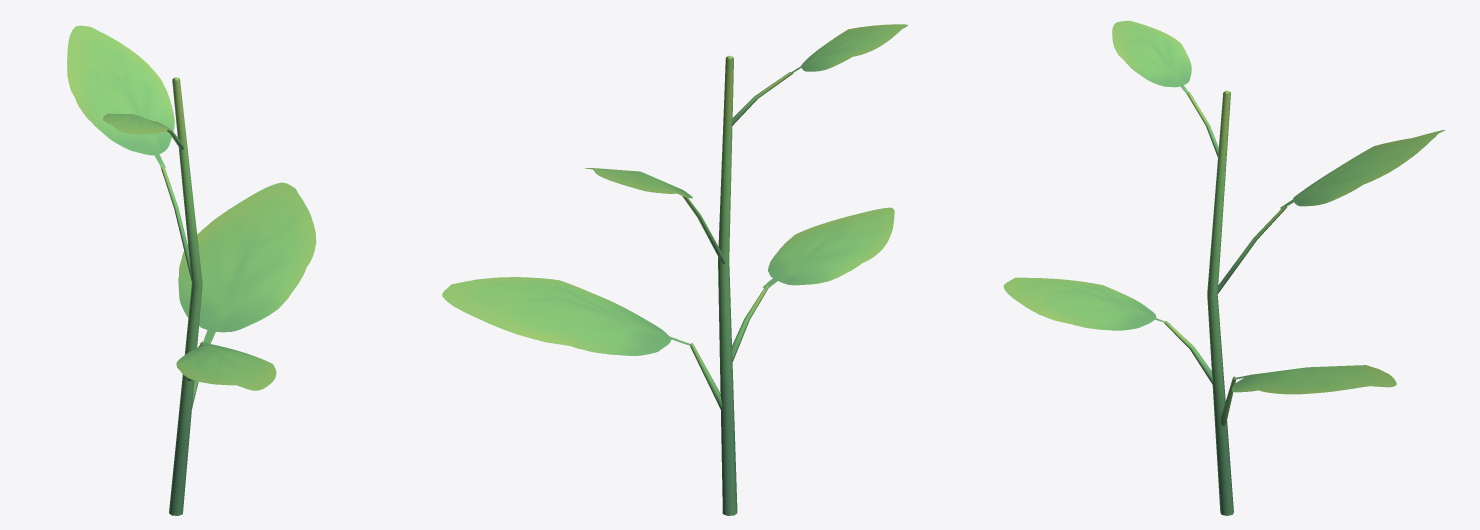
The model's file is Pousse.fbx.
The picture shows the model from 3 angles, left to right: view 1: azimuth 30°, elevation 25°; view 2: azimuth 150°, elevation 25°; view 3: azimuth 270°, elevation 25°; orthographic projection. The views are drawn at different scales.
Parts seen in each view (by area): view 1: Pousse1; view 2: Pousse1; view 3: Pousse1.
Boxes of the visible parts, x1,y1,x2,y2 form: Pousse1: [67, 25, 316, 515]; Pousse1: [442, 24, 907, 515]; Pousse1: [1003, 20, 1445, 515].
Bounding box in the file's own units: 3.92 × 4.26 × 4.25.
